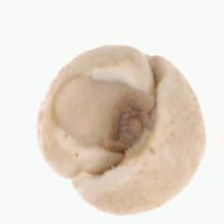L3: (96, 81, 153, 180)
L4: (36, 45, 206, 215)
